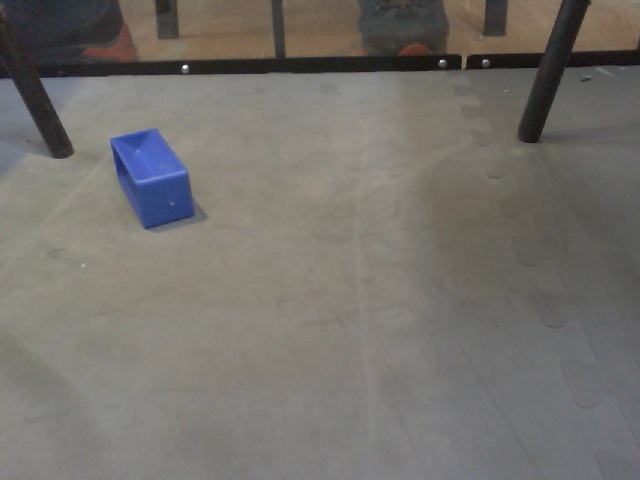BlueSample: (105, 125, 199, 233)
